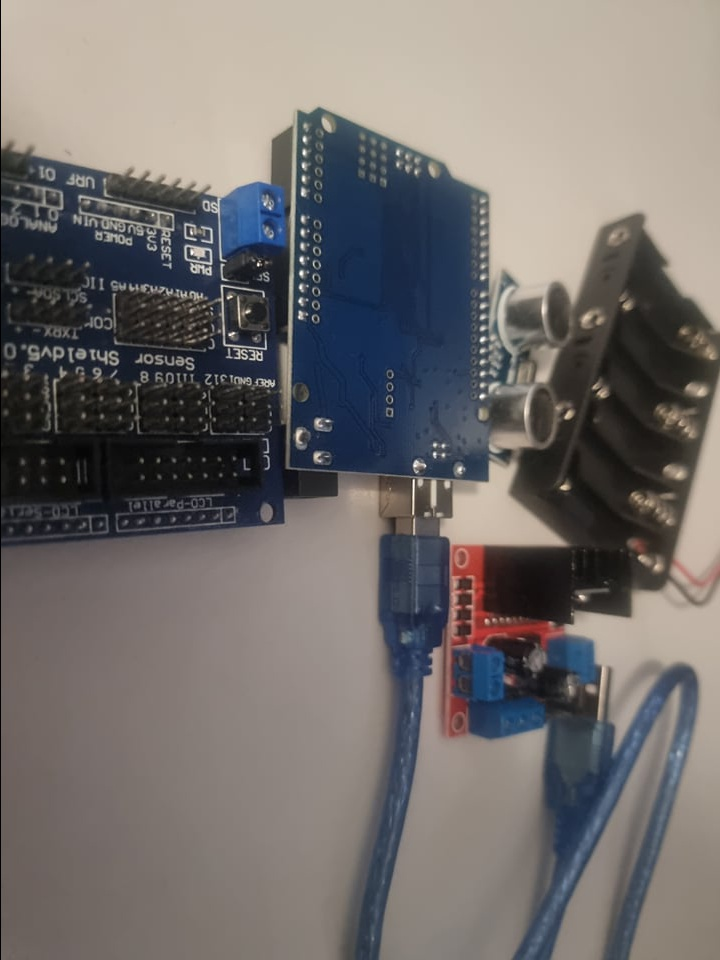5V EXPANSION: (4, 148, 281, 547)
BATTERY BOX: (505, 213, 717, 588)
MOTOR: (441, 541, 635, 737)
SENSOR: (487, 270, 572, 466)
UNO R3: (282, 104, 498, 520)
